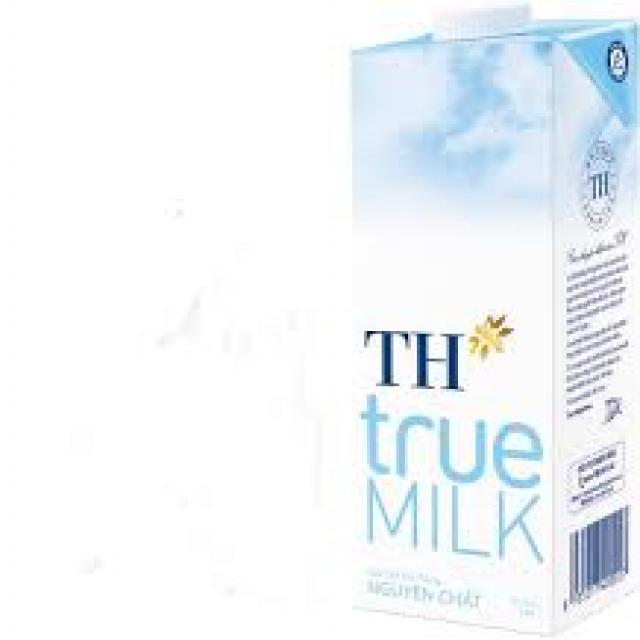non_white_jug: (321, 0, 640, 637)
